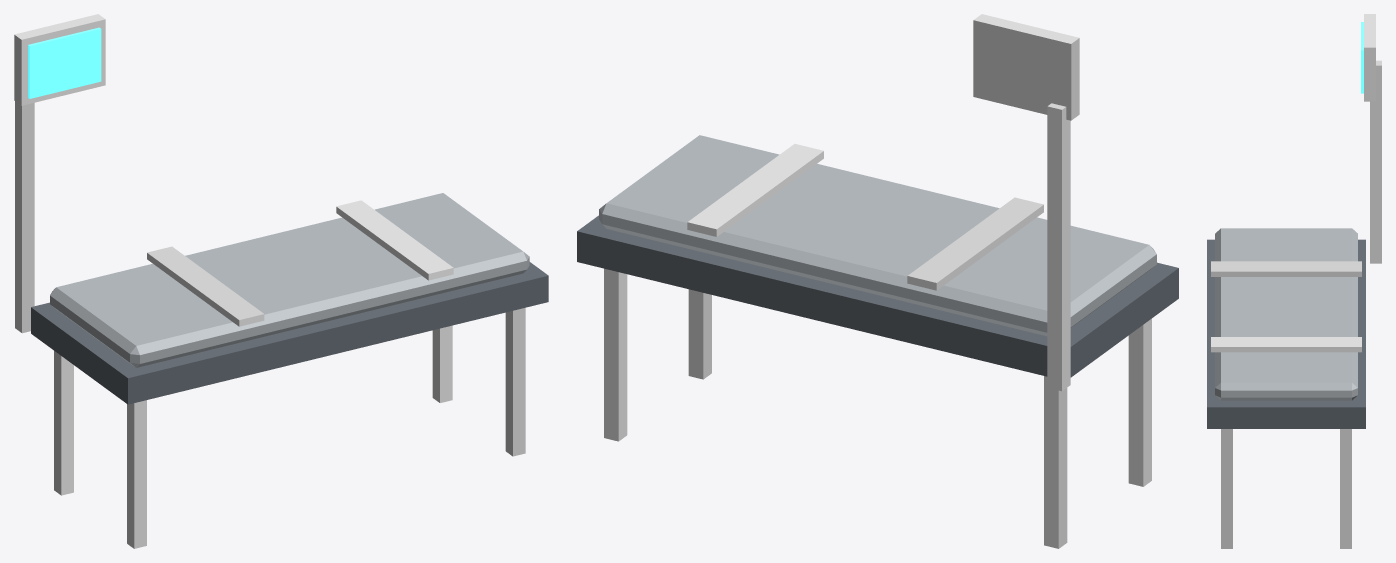
Rendered from Bed_Medical.fbx.
3 views of the same model, side by side, from view 1: azimuth 30°, elevation 25°; view 2: azimuth 150°, elevation 25°; view 3: azimuth 270°, elevation 25° (orthographic). The views are drawn at different scales.
Parts seen in each view (by area): view 1: Bed_Medical; view 2: Bed_Medical; view 3: Bed_Medical.
Part boxes in pixels (left/top/right/bottom): Bed_Medical: left=14, top=14, right=548, bottom=548; Bed_Medical: left=577, top=14, right=1178, bottom=548; Bed_Medical: left=1207, top=14, right=1381, bottom=548.
Bounding box in the file's own units: 2.05 × 2.05 × 0.88.
